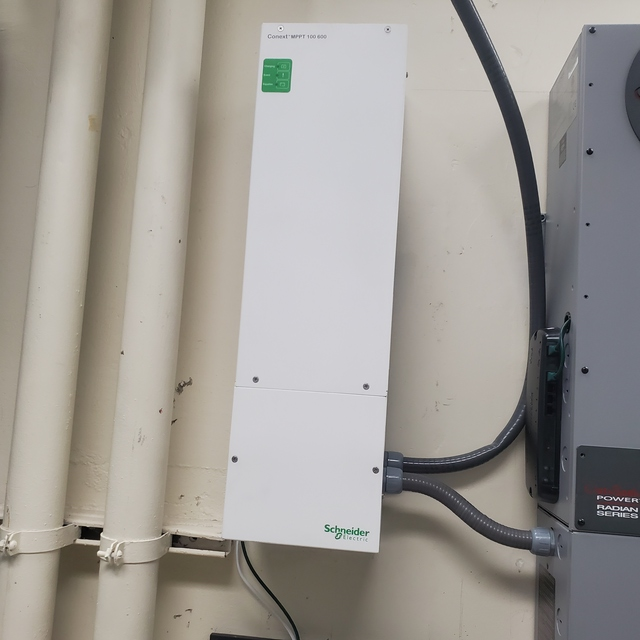charge_controller: (221, 19, 410, 555)
